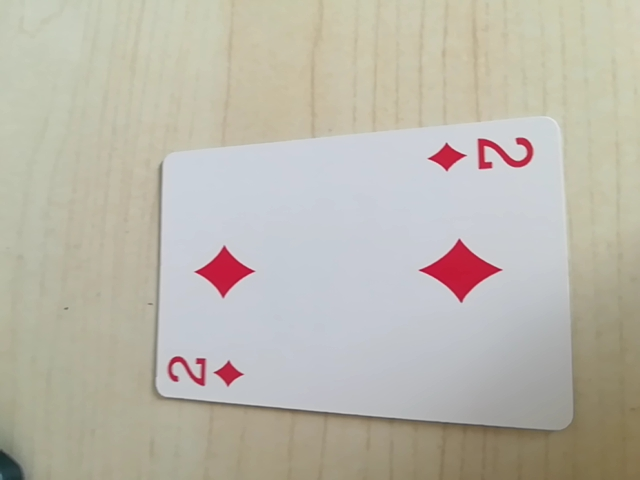fk 2: (428, 130, 542, 179), (164, 345, 249, 397)
